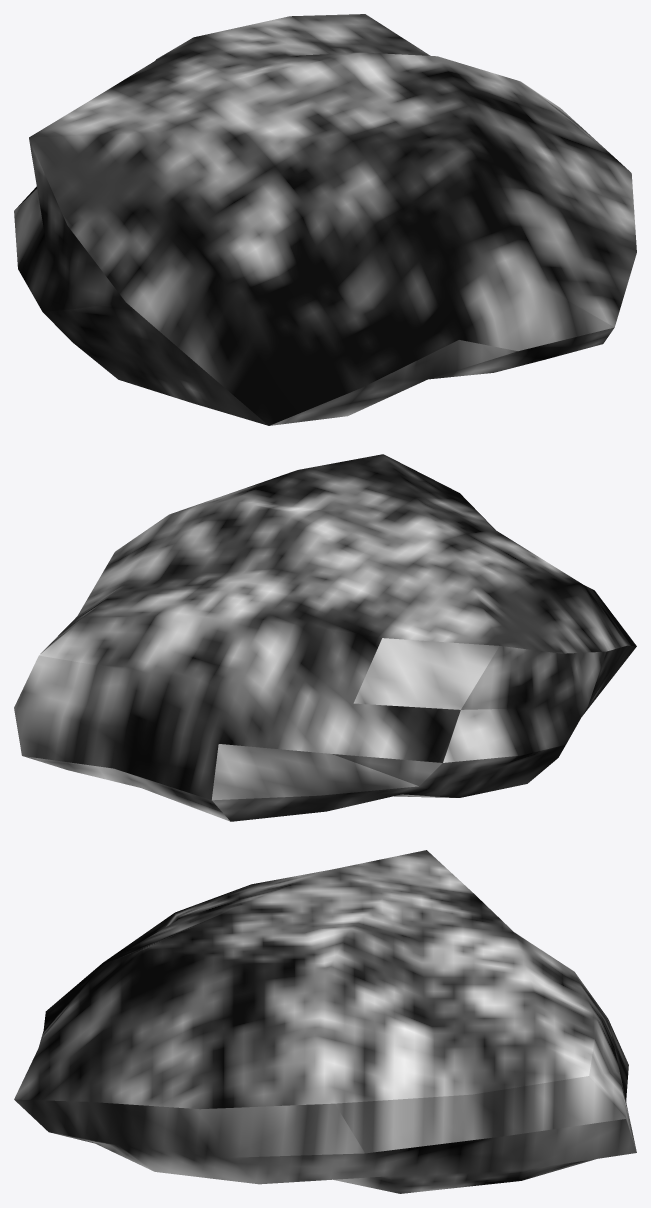
Rendered from rock02.obj.
The picture shows the model from 3 angles, top to bottom: view 1: azimuth 30°, elevation 25°; view 2: azimuth 150°, elevation 25°; view 3: azimuth 270°, elevation 25°; orthographic projection. The views are drawn at different scales.
Parts seen in each view (by area): view 1: rock.001; view 2: rock.001; view 3: rock.001.
Part boxes in pixels (box(x1,y1,x2,y2)): rock.001: box(14, 14, 636, 425); rock.001: box(14, 454, 636, 821); rock.001: box(14, 850, 636, 1193).
Bounding box in the file's own units: 1.5 × 0.7701 × 1.78.
1 material, 1 textured.
